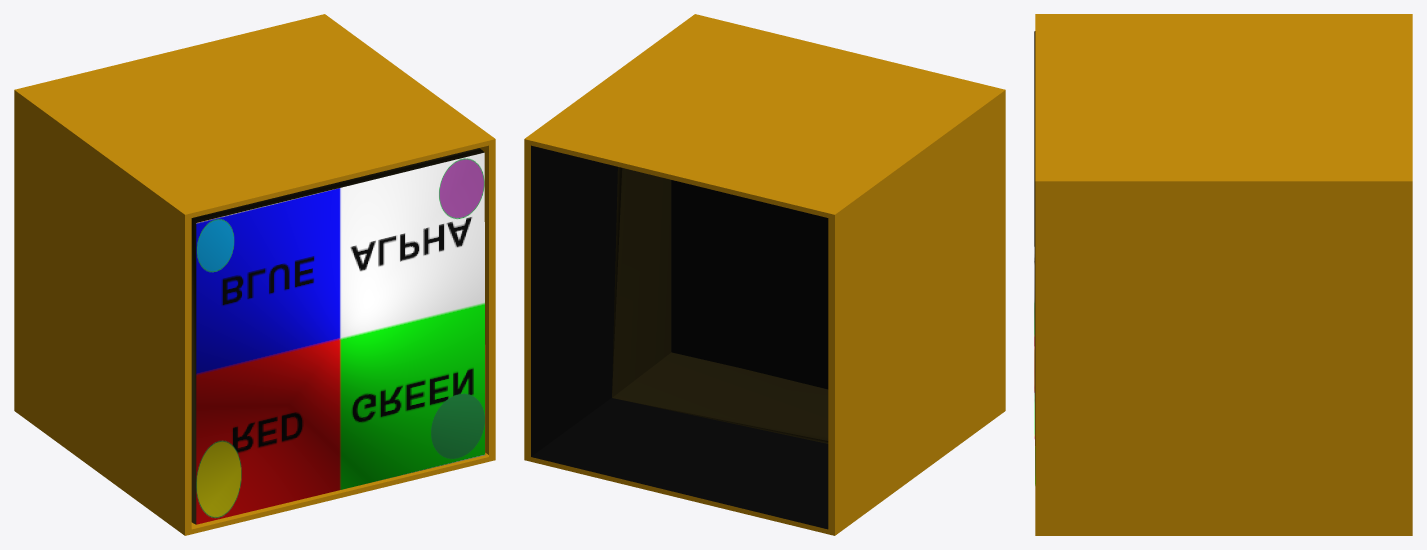
File: frameAmerican_gold.glb
3 renders of one model, left to right at view 1: azimuth 30°, elevation 25°; view 2: azimuth 150°, elevation 25°; view 3: azimuth 270°, elevation 25°, orthographic. The views are drawn at different scales.
Visible parts, largest first — view 1: Material2, A_PaintingMesh, Material3.003; view 2: Material2, Material3.004, Mat, A_PaintingMesh; view 3: Material2, A_PaintingMesh.
Boxes of the visible parts, bbox=[...] form: Material2: bbox=[14, 14, 495, 535]; A_PaintingMesh: bbox=[191, 148, 485, 524]; Material3.003: bbox=[191, 145, 488, 529]; Material2: bbox=[524, 14, 1005, 535]; Material3.004: bbox=[531, 145, 828, 529]; Mat: bbox=[671, 180, 828, 389]; A_PaintingMesh: bbox=[612, 167, 828, 443]; Material2: bbox=[1035, 14, 1412, 535]; A_PaintingMesh: bbox=[1034, 31, 1035, 485].
Size of what is drawn, in the model's own units: 1.07 by 1.05 by 1.02.
Materials: 6 (1 with a texture image).
